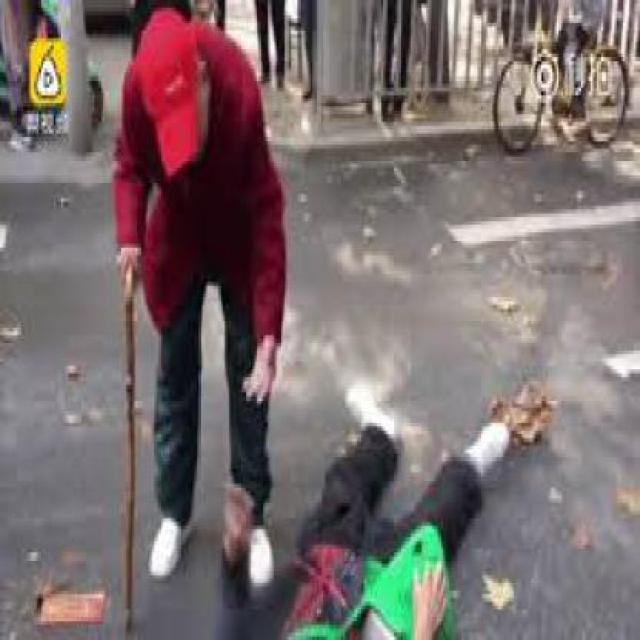fall: (178, 347, 533, 631)
